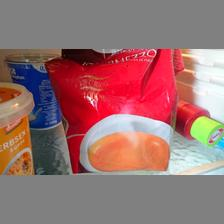Kaffee: (43, 48, 180, 174)
